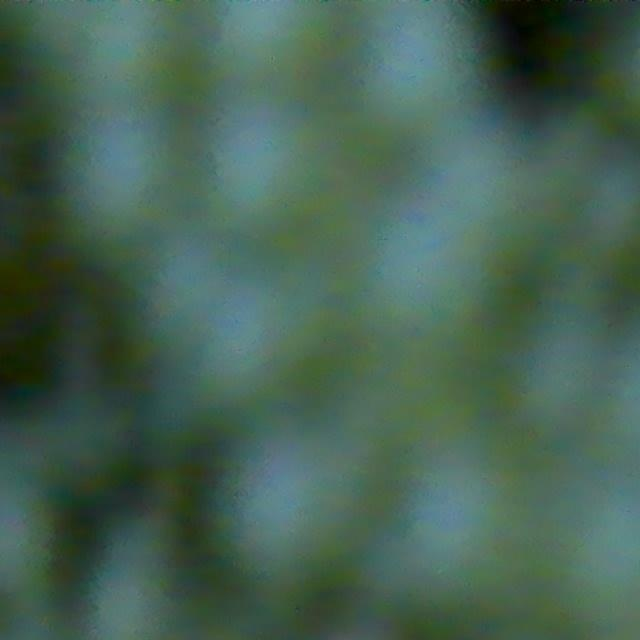SeaGrape: (373, 464, 524, 605), (349, 25, 507, 153), (362, 205, 491, 361), (189, 291, 316, 428), (69, 109, 197, 244), (208, 108, 349, 225), (233, 429, 355, 561), (208, 0, 337, 86), (87, 525, 187, 631)
